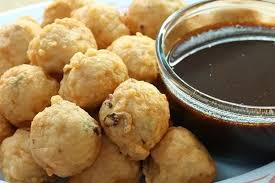Pempek adaan: (27, 92, 103, 175), (105, 79, 174, 157), (141, 122, 218, 183), (61, 43, 130, 110), (27, 18, 100, 75), (1, 65, 58, 124), (70, 2, 132, 52), (0, 15, 45, 70), (105, 32, 166, 72), (2, 128, 45, 182)
